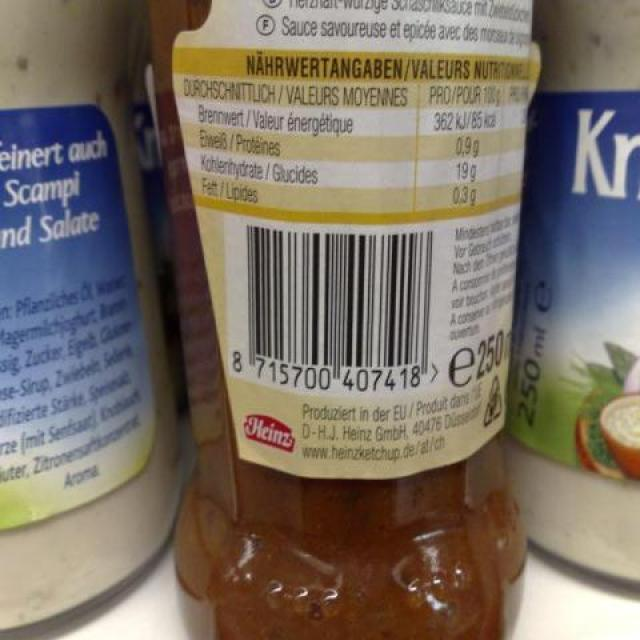Barcode: (224, 209, 445, 396)
